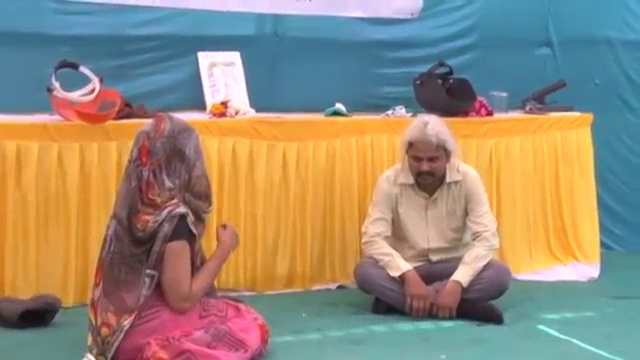helmet_off: (128, 119, 213, 214), (403, 119, 455, 188)
person: (80, 113, 271, 360), (352, 115, 511, 325)
